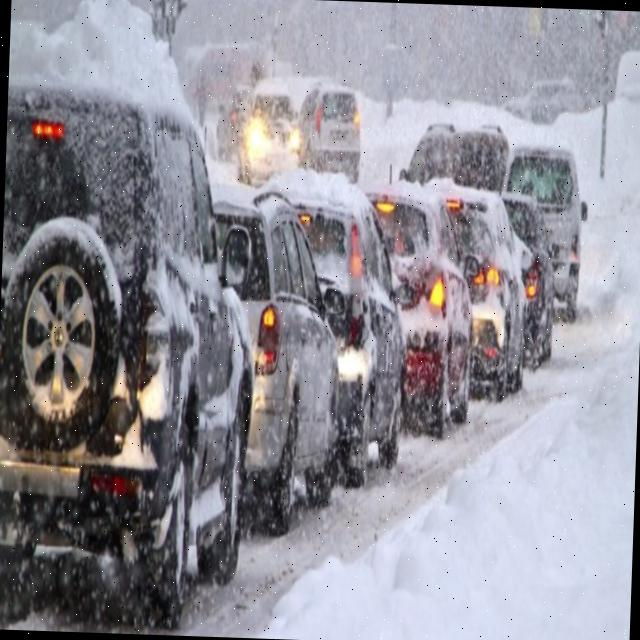car: (0, 76, 256, 625), (202, 174, 338, 520), (274, 178, 406, 486), (494, 140, 588, 326), (401, 204, 468, 448), (466, 188, 528, 418), (402, 121, 506, 196), (512, 206, 556, 370), (298, 78, 362, 184), (242, 88, 301, 183), (502, 66, 578, 130), (212, 83, 244, 165)
